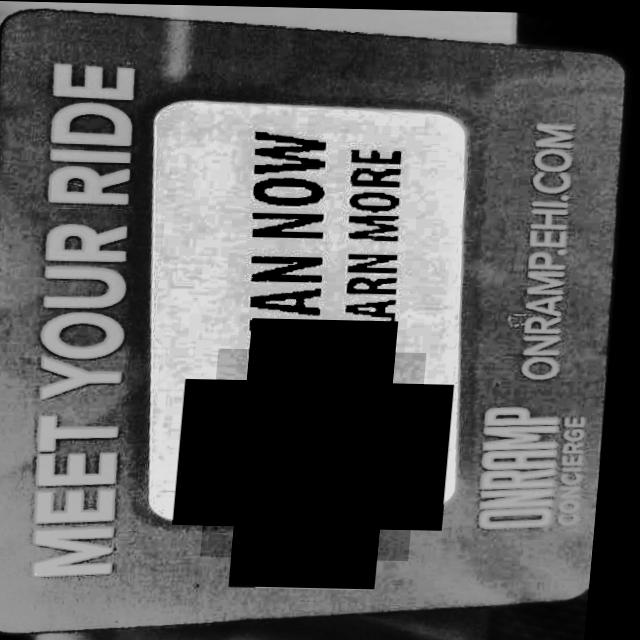qr_code: (211, 346, 433, 558)
